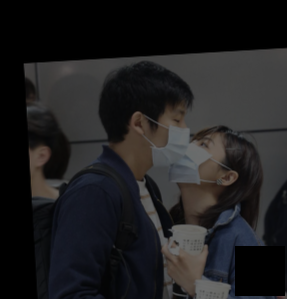with_mask: (164, 135, 225, 183), (143, 109, 191, 163)
